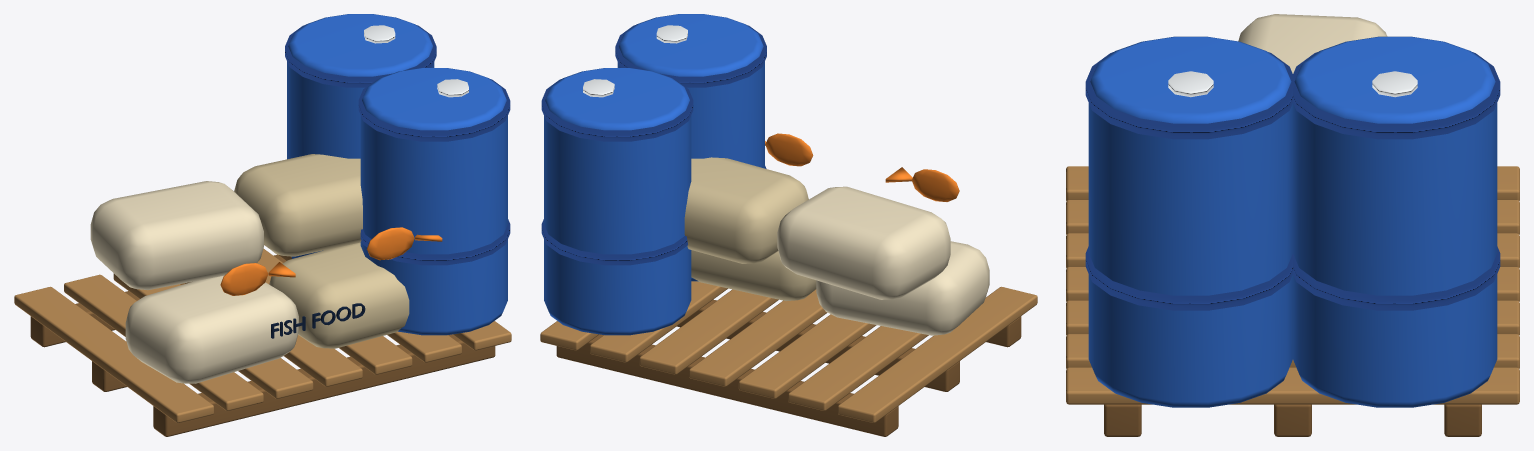
The model's file is aqua_feed_pallet.glb.
3 views of the same model, side by side, from view 1: azimuth 30°, elevation 25°; view 2: azimuth 150°, elevation 25°; view 3: azimuth 270°, elevation 25° (orthographic). The views are drawn at different scales.
Visible parts, largest first — view 1: FeedPallet; view 2: FeedPallet; view 3: FeedPallet.
Boxes of the visible parts, x1,y1,x2,y2 form: FeedPallet: (14,14,511,436); FeedPallet: (540,14,1037,436); FeedPallet: (1066,14,1519,436).
Bounding box in the file's own units: 1.55 × 1.02 × 1.2.
